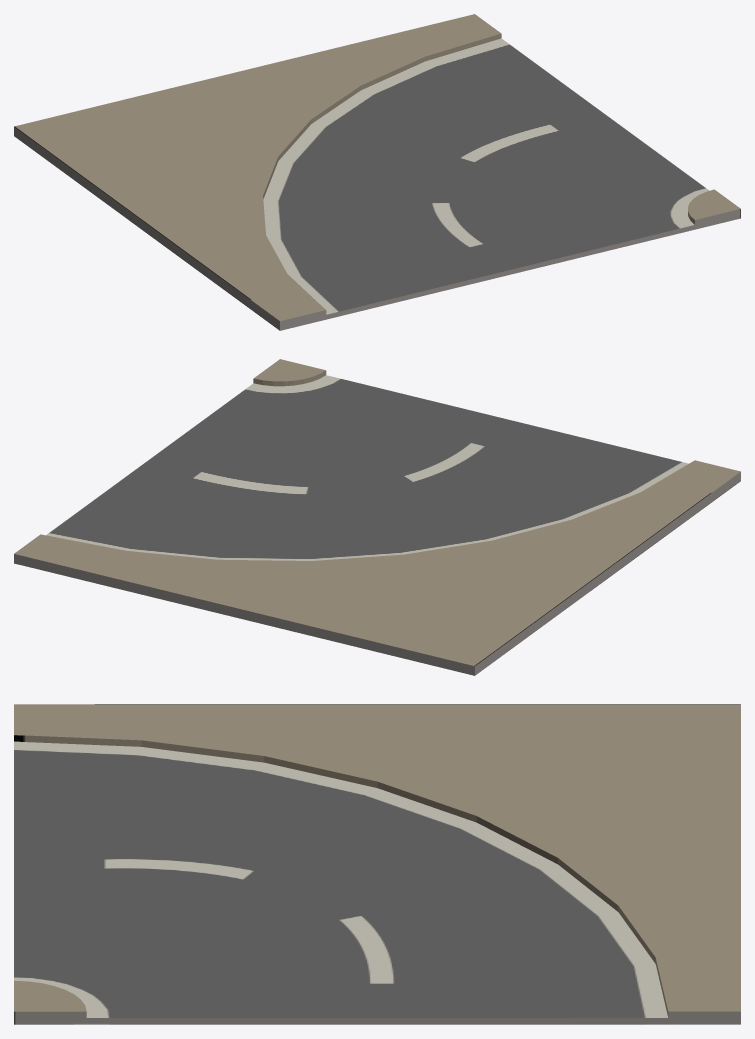
The model's file is road_bend_coloured.glb.
3 views of the same model, one above another, from view 1: azimuth 30°, elevation 25°; view 2: azimuth 150°, elevation 25°; view 3: azimuth 270°, elevation 25° (orthographic). The views are drawn at different scales.
Parts seen in each view (by area): view 1: Cube; view 2: Cube; view 3: Cube.
Part boxes in pixels (x1,y1,x2,y2): Cube: (14,14,740,330); Cube: (14,359,740,675); Cube: (14,704,740,1024).
Bounding box in the file's own units: 15 × 0.3 × 15.
Materials: 1 (1 with a texture image).
